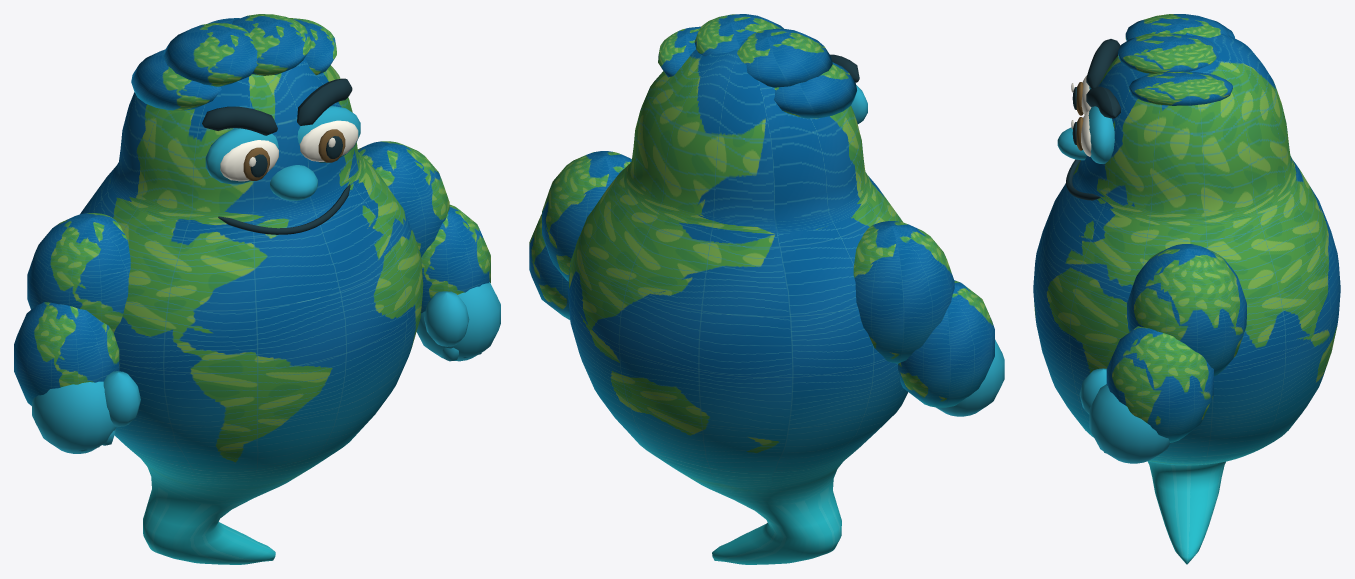
Rendered from homem-mapa.glb.
3 renders of one model, left to right at view 1: azimuth 30°, elevation 25°; view 2: azimuth 150°, elevation 25°; view 3: azimuth 270°, elevation 25°, orthographic. The views are drawn at different scales.
Visible parts, largest first — view 1: Corpo continuo e cauda, Braco (×2), Antebraco (×2), Topete cartografico (×4), Mao (×2), Polegar (×2), Sobrancelha (×2), Olhos (×2), Contorno dos olhos (×2), Nariz, Sorriso; view 2: Corpo continuo e cauda, Braco (×2), Topete cartografico (×4), Antebraco (×2), Mao; view 3: Corpo continuo e cauda, Braco, Antebraco, Topete cartografico (×3), Mao, Sobrancelha (×2), Contorno dos olhos, Polegar, Nariz, Sorriso.
Boxes of the visible parts, x1,y1,x2,y2 form: Corpo continuo e cauda: [80, 18, 423, 564]; Braco (×2): [27, 141, 449, 332]; Antebraco (×2): [14, 204, 490, 405]; Topete cartografico (×4): [131, 14, 336, 110]; Mao (×2): [32, 282, 500, 453]; Polegar (×2): [103, 291, 469, 426]; Sobrancelha (×2): [202, 78, 352, 135]; Olhos (×2): [220, 120, 358, 181]; Contorno dos olhos (×2): [205, 106, 360, 184]; Nariz: [270, 165, 317, 200]; Sorriso: [218, 184, 350, 234]; Corpo continuo e cauda: [568, 38, 908, 564]; Braco (×2): [542, 151, 954, 363]; Topete cartografico (×4): [658, 14, 856, 118]; Antebraco (×2): [529, 214, 994, 407]; Mao: [936, 339, 1004, 416]; Corpo continuo e cauda: [1033, 32, 1340, 564]; Braco: [1127, 244, 1246, 376]; Antebraco: [1106, 326, 1213, 442]; Topete cartografico (×3): [1118, 14, 1232, 105]; Mao: [1089, 384, 1170, 463]; Sobrancelha (×2): [1086, 39, 1120, 118]; Contorno dos olhos: [1088, 106, 1114, 163]; Polegar: [1079, 368, 1106, 414]; Nariz: [1057, 127, 1086, 160]; Sorriso: [1066, 159, 1100, 200].
Bounding box in the file's own units: 1.32 × 1.5 × 0.8046.
Materials: 5 (1 with a texture image).
